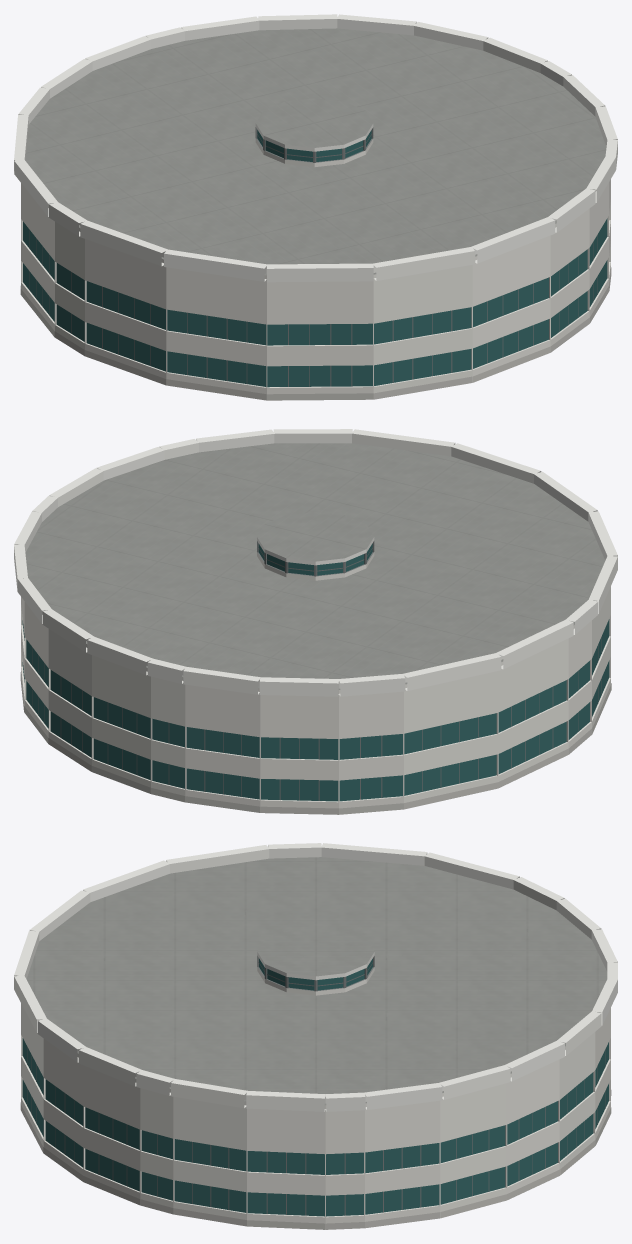
3 renders of one model, top to bottom at view 1: azimuth 30°, elevation 25°; view 2: azimuth 150°, elevation 25°; view 3: azimuth 270°, elevation 25°, orthographic.
Parts seen in each view (by area): view 1: aegineung__roof, aegineung__wall, aegineung__glass, aegineung__trim, aegineung__base, aegineung__frame; view 2: aegineung__roof, aegineung__wall, aegineung__glass, aegineung__trim, aegineung__base, aegineung__frame; view 3: aegineung__roof, aegineung__wall, aegineung__glass, aegineung__trim, aegineung__base, aegineung__frame.
Boxes of the visible parts, x1,y1,x2,y2 form: aegineung__roof: [25, 28, 606, 275]; aegineung__wall: [21, 138, 610, 399]; aegineung__glass: [23, 130, 607, 387]; aegineung__trim: [14, 14, 617, 282]; aegineung__base: [20, 267, 611, 400]; aegineung__frame: [29, 127, 597, 386]; aegineung__roof: [25, 443, 605, 689]; aegineung__wall: [21, 552, 610, 812]; aegineung__glass: [22, 543, 609, 801]; aegineung__trim: [14, 429, 617, 696]; aegineung__base: [20, 672, 611, 814]; aegineung__frame: [32, 541, 601, 800]; aegineung__roof: [26, 857, 607, 1105]; aegineung__wall: [21, 967, 610, 1229]; aegineung__glass: [22, 958, 608, 1216]; aegineung__trim: [14, 843, 617, 1111]; aegineung__base: [20, 1090, 611, 1229]; aegineung__frame: [27, 956, 605, 1215].
Size of the model in its own units: 51.51 by 14.4 by 51.45.
6 materials, 1 textured.
